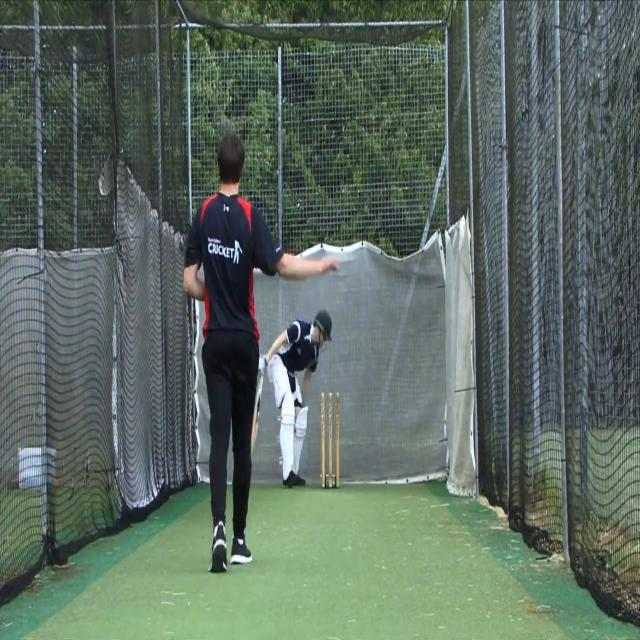batsman: (250, 308, 334, 490)
